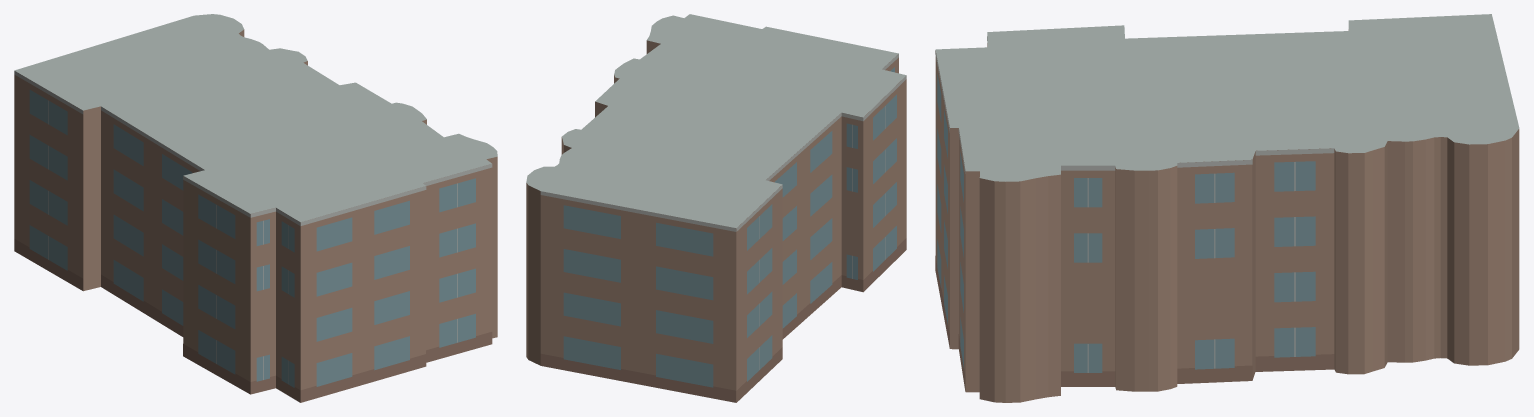
Rendered from survey-upis-32778001.glb.
3 renders of one model, left to right at view 1: azimuth 30°, elevation 25°; view 2: azimuth 150°, elevation 25°; view 3: azimuth 270°, elevation 25°, orthographic. The views are drawn at different scales.
Parts seen in each view (by area): view 1: survey-upis-32778001.tmp; view 2: survey-upis-32778001.tmp; view 3: survey-upis-32778001.tmp.
Part boxes in pixels (box(x1,y1,x2,y2)): survey-upis-32778001.tmp: box(14, 14, 497, 402); survey-upis-32778001.tmp: box(526, 14, 906, 402); survey-upis-32778001.tmp: box(935, 14, 1519, 402).
Bounding box in the file's own units: 18.23 × 11.2 × 26.81.
